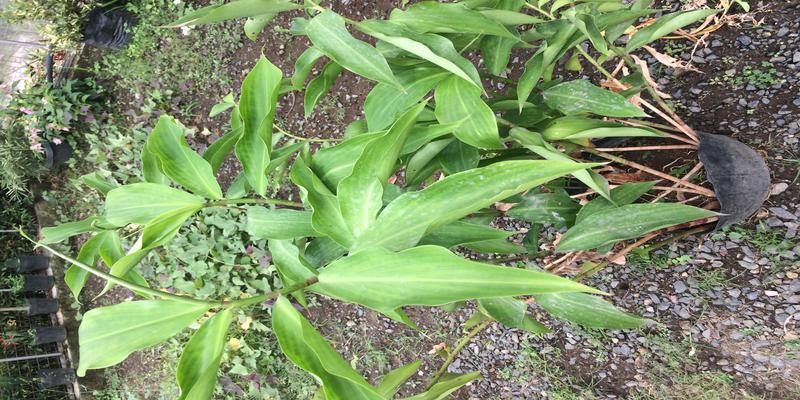Insulin: (232, 9, 710, 312)
